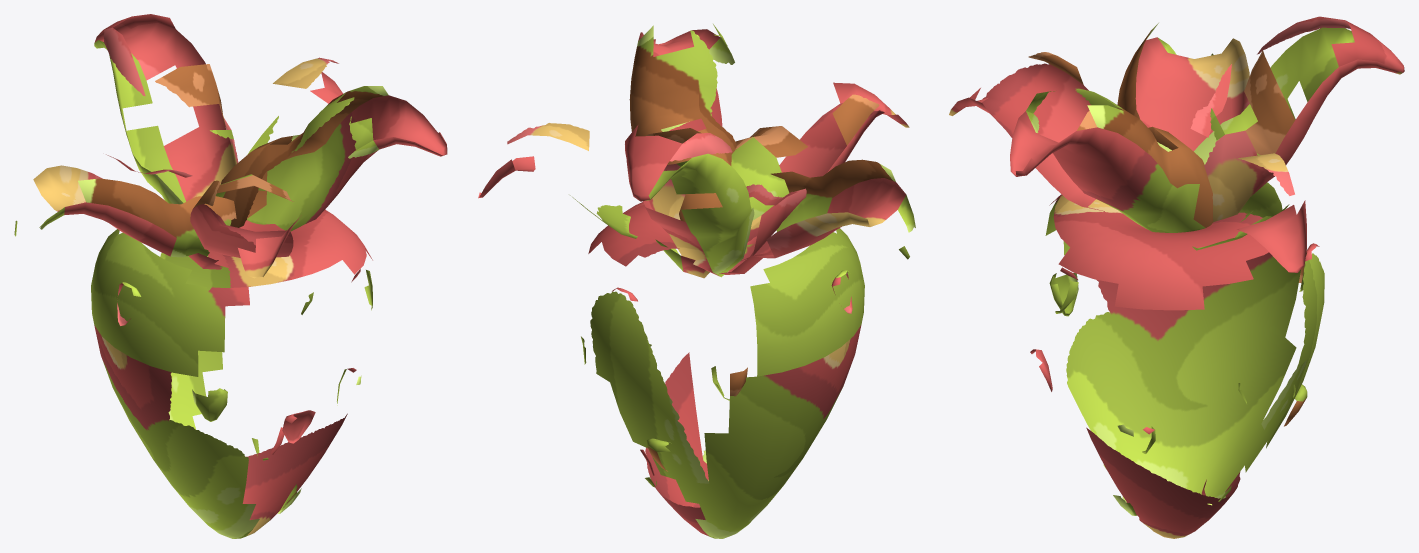
File: Cabaise for.fbx
3 views of the same model, side by side, from view 1: azimuth 30°, elevation 25°; view 2: azimuth 150°, elevation 25°; view 3: azimuth 270°, elevation 25° (orthographic). The views are drawn at different scales.
Visible parts, largest first — view 1: Carotte Print 3D.015; view 2: Carotte Print 3D.015; view 3: Carotte Print 3D.015.
Boxes of the visible parts, x1,y1,x2,y2 form: Carotte Print 3D.015: [14, 14, 447, 538]; Carotte Print 3D.015: [478, 24, 915, 538]; Carotte Print 3D.015: [949, 16, 1404, 538].
Size of the model in its own units: 457 by 520 by 428.
